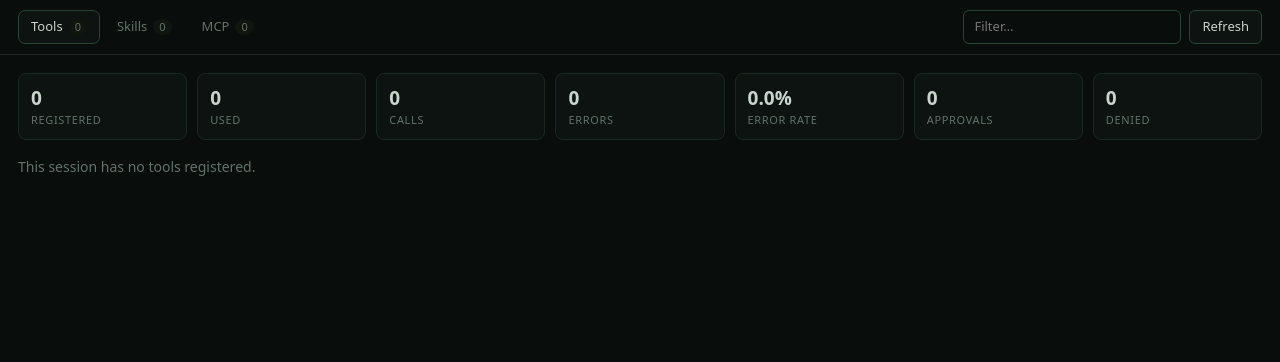
Test: ToolsPage MCP tab › offers the add form while MCP is disabled
The width and height of the screenshot is (1280, 362).
Click the button "MCP 0". click: [228, 27]
box: x1=189 y1=10 x2=267 y2=44
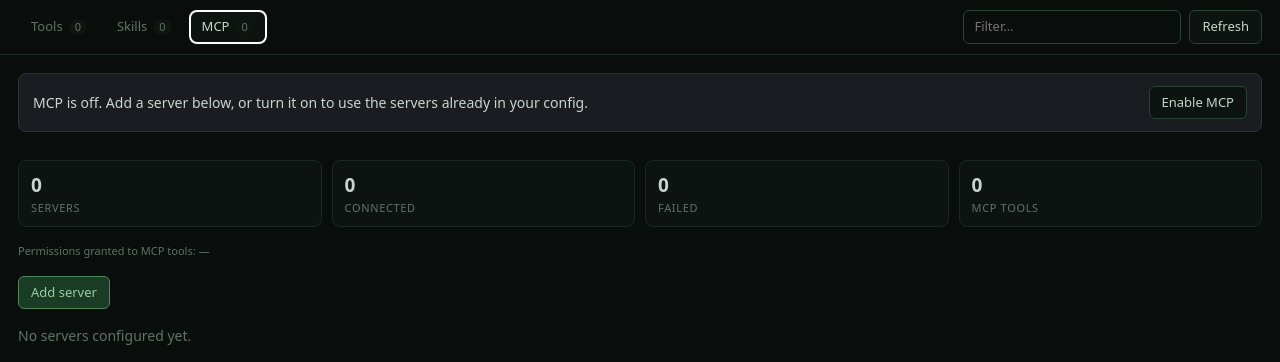
Expected: the button "Add server" is shown, x1=18 y1=276 x2=110 y2=309
